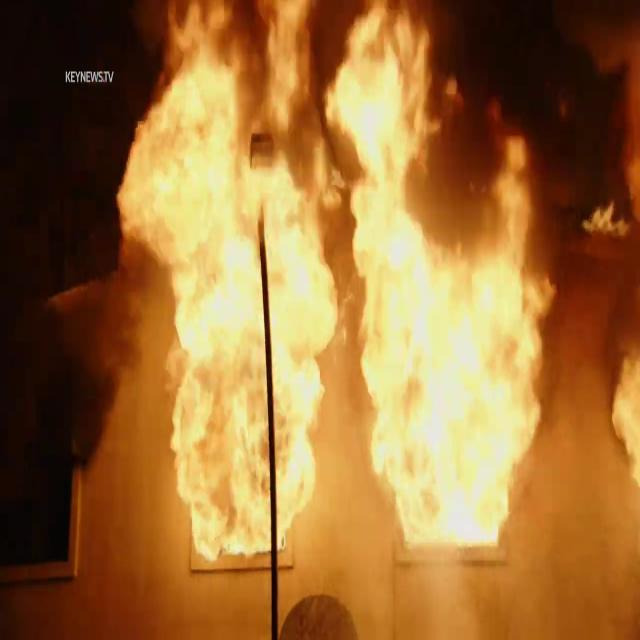Fire: (76, 0, 640, 578)
